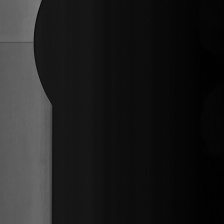crescent_gap: (30, 0, 63, 119), (0, 32, 37, 48)
